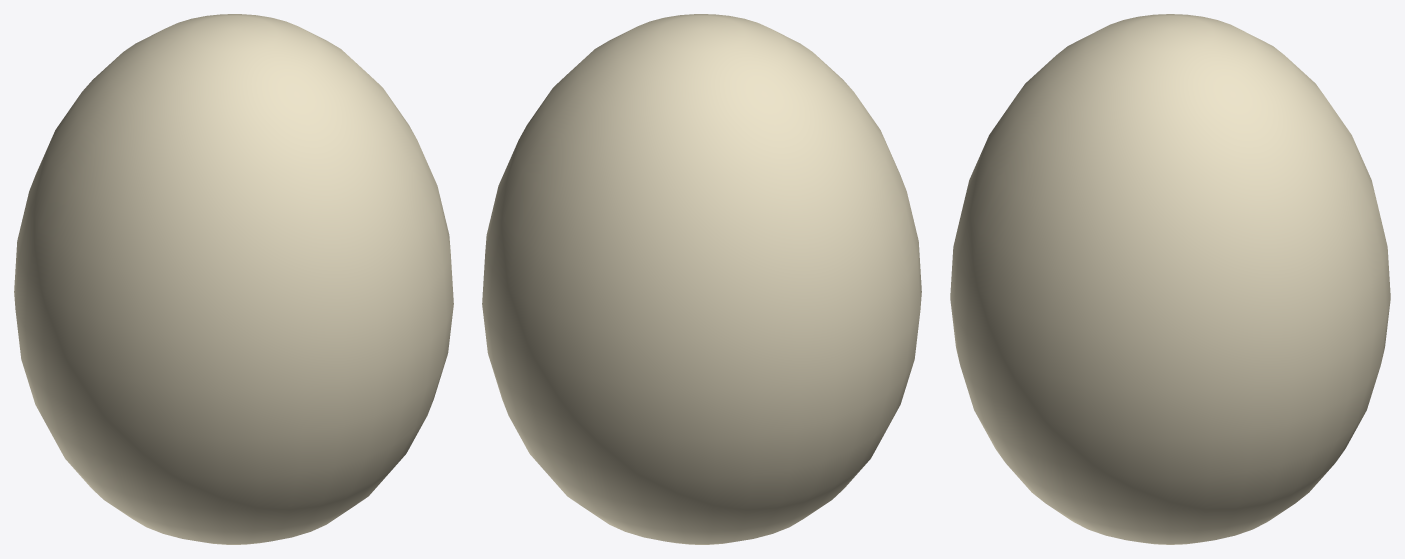
The model's file is eggUncut.fbx.
The picture shows the model from 3 angles, left to right: view 1: azimuth 30°, elevation 25°; view 2: azimuth 150°, elevation 25°; view 3: azimuth 270°, elevation 25°; orthographic projection.
Visible parts, largest first — view 1: Sphere.001; view 2: Sphere.001; view 3: Sphere.001.
Part boxes in pixels (left/top/right/bottom): Sphere.001: left=14, top=14, right=453, bottom=544; Sphere.001: left=482, top=14, right=921, bottom=544; Sphere.001: left=950, top=14, right=1390, bottom=544.
Bounding box in the file's own units: 221 × 271 × 221.
